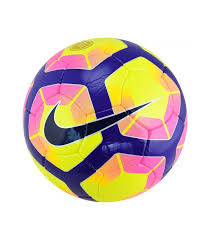top: (19, 36, 195, 209)
